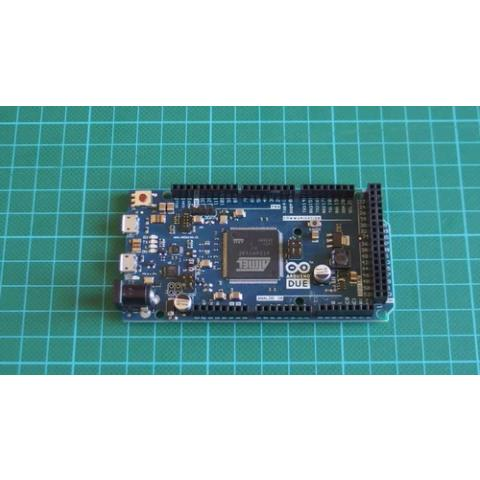Arduino-Due: (113, 174, 397, 340)
